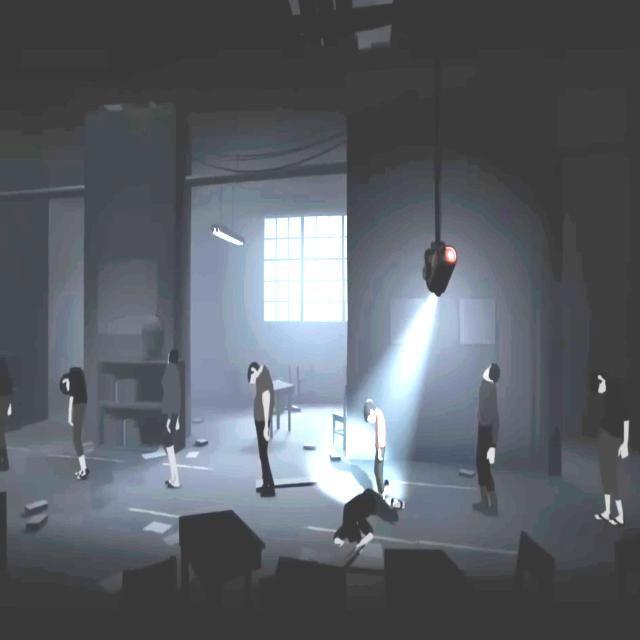boy: (364, 399, 386, 497)
zombie: (594, 366, 629, 526), (333, 488, 405, 551), (472, 363, 500, 516), (248, 362, 276, 498), (60, 366, 90, 480), (162, 348, 182, 489), (0, 357, 12, 471)
